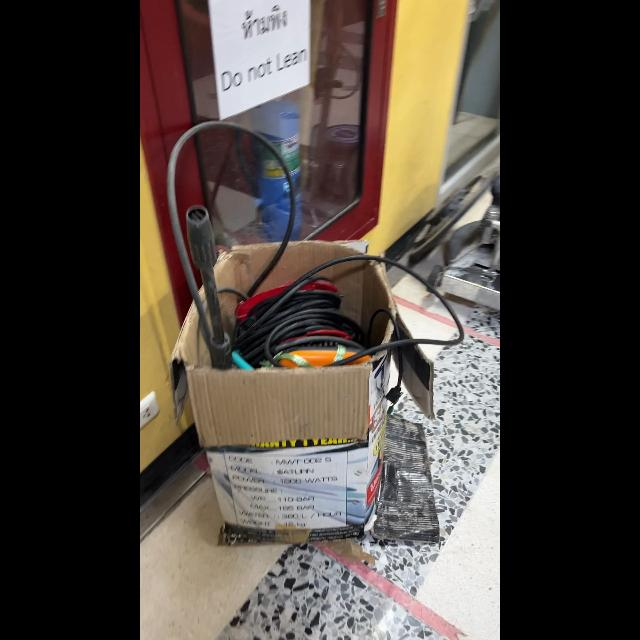cardboard_box: (160, 234, 422, 550)
